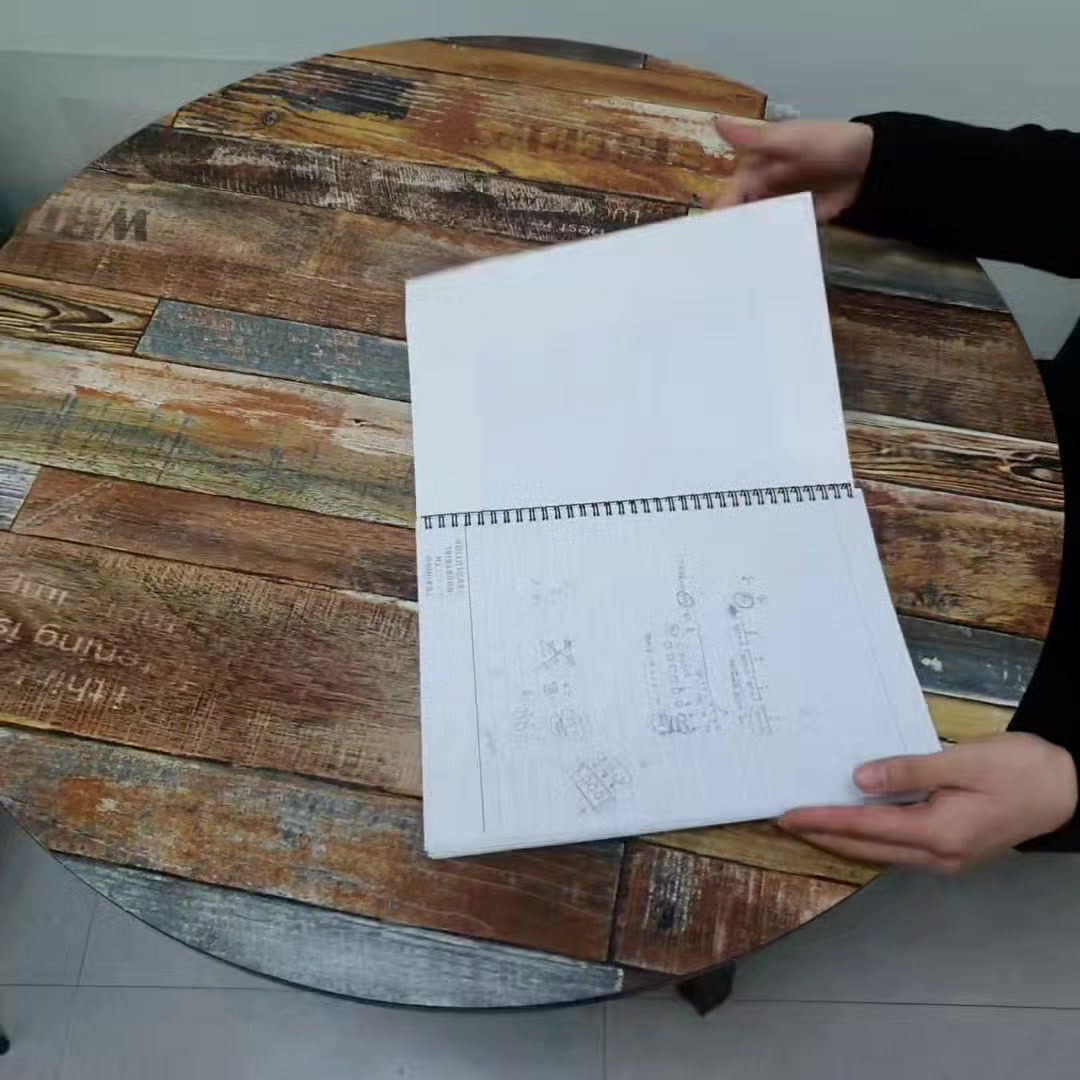book: (407, 192, 916, 846)
